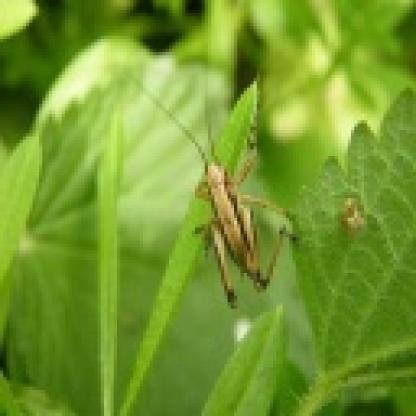grasshopper: (188, 113, 285, 307)
